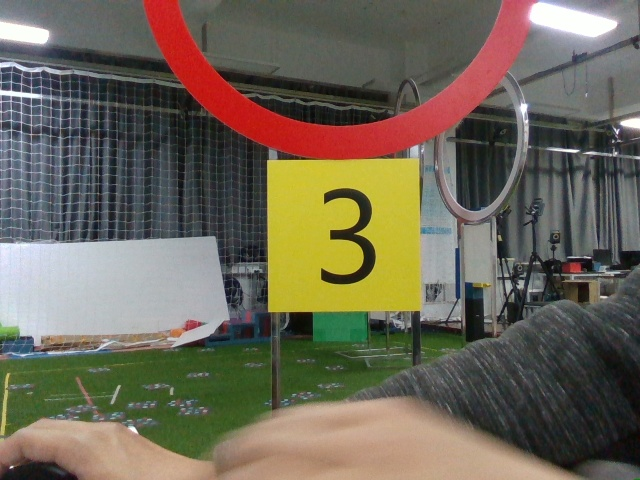target: (267, 155, 418, 317)
